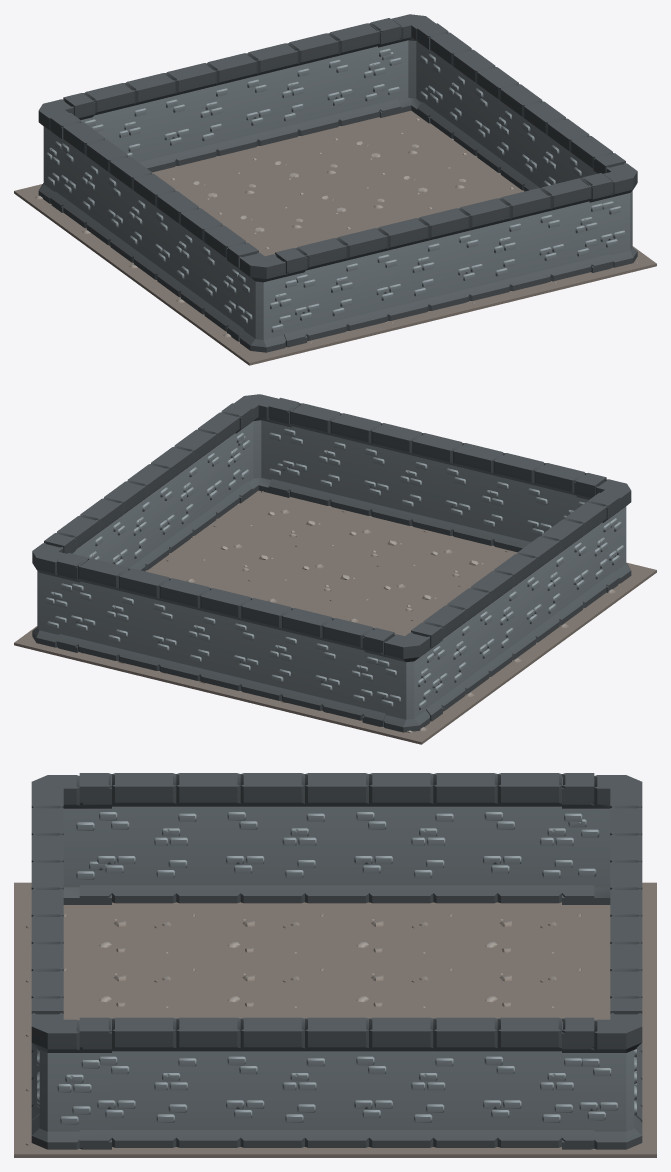
3 views of the same model, one above another, from view 1: azimuth 30°, elevation 25°; view 2: azimuth 150°, elevation 25°; view 3: azimuth 270°, elevation 25° (orthographic). The views are drawn at different scales.
Visible parts, largest first — view 1: wall_corner.002, floor_dirt_large.005; view 2: wall_corner.002, floor_dirt_large.005; view 3: wall_corner.002, floor_dirt_large.005.
Boxes of the visible parts, bbox=[...] form: wall_corner.002: bbox=[38, 14, 637, 352]; floor_dirt_large.005: bbox=[14, 110, 656, 365]; wall_corner.002: bbox=[32, 394, 631, 732]; floor_dirt_large.005: bbox=[14, 490, 656, 744]; wall_corner.002: bbox=[31, 773, 642, 1149]; floor_dirt_large.005: bbox=[14, 882, 656, 1157].
Size of the model in its own units: 2000 by 418 by 2000.
Materials: 3 (3 with a texture image).
